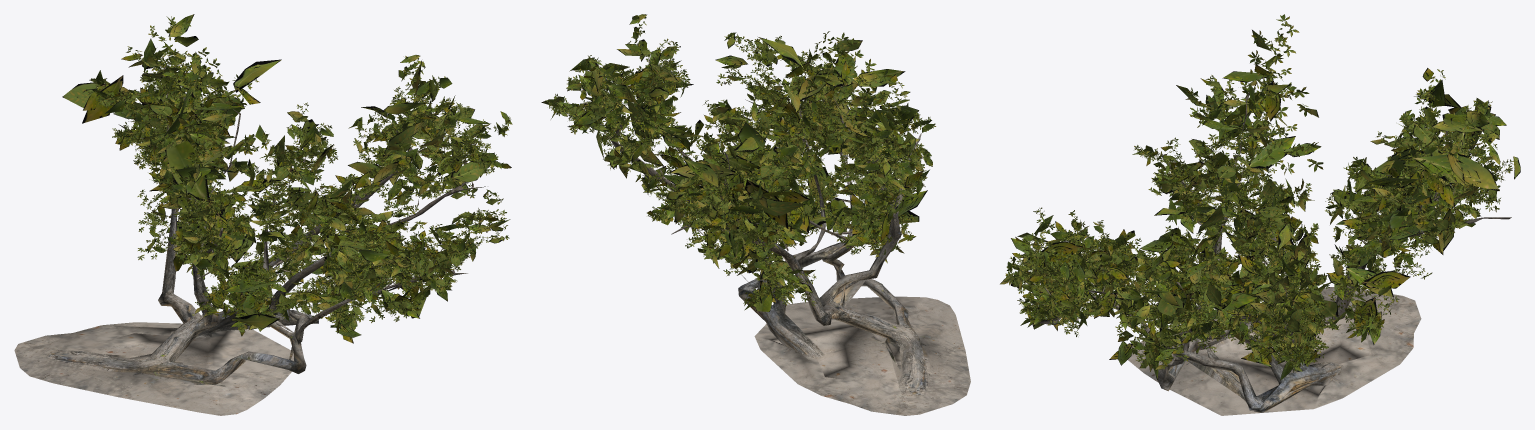
Rendered from original-canopy-lod-1k.glb.
3 views of the same model, side by side, from view 1: azimuth 30°, elevation 25°; view 2: azimuth 150°, elevation 25°; view 3: azimuth 270°, elevation 25° (orthographic). The views are drawn at different scales.
Visible parts, largest first — view 1: canopy_original_near, canopy_original_mid, canopy_original_far, canopy_original_distant; view 2: canopy_original_near, canopy_original_mid, canopy_original_far, canopy_original_distant; view 3: canopy_original_near, canopy_original_mid, canopy_original_far, canopy_original_distant.
Boxes of the visible parts, x1,y1,x2,y2 form: canopy_original_near: (14, 16, 512, 415); canopy_original_mid: (16, 16, 511, 381); canopy_original_far: (15, 14, 510, 415); canopy_original_distant: (62, 47, 483, 331); canopy_original_near: (545, 14, 970, 415); canopy_original_mid: (547, 14, 933, 414); canopy_original_far: (541, 39, 970, 414); canopy_original_distant: (556, 37, 927, 318); canopy_original_near: (1005, 14, 1517, 415); canopy_original_mid: (1000, 30, 1506, 410); canopy_original_far: (1003, 71, 1520, 397); canopy_original_distant: (1017, 84, 1498, 380).
Bounding box in the file's own units: 4.71 × 3.2 × 4.26.
Materials: 3 (3 with a texture image).
